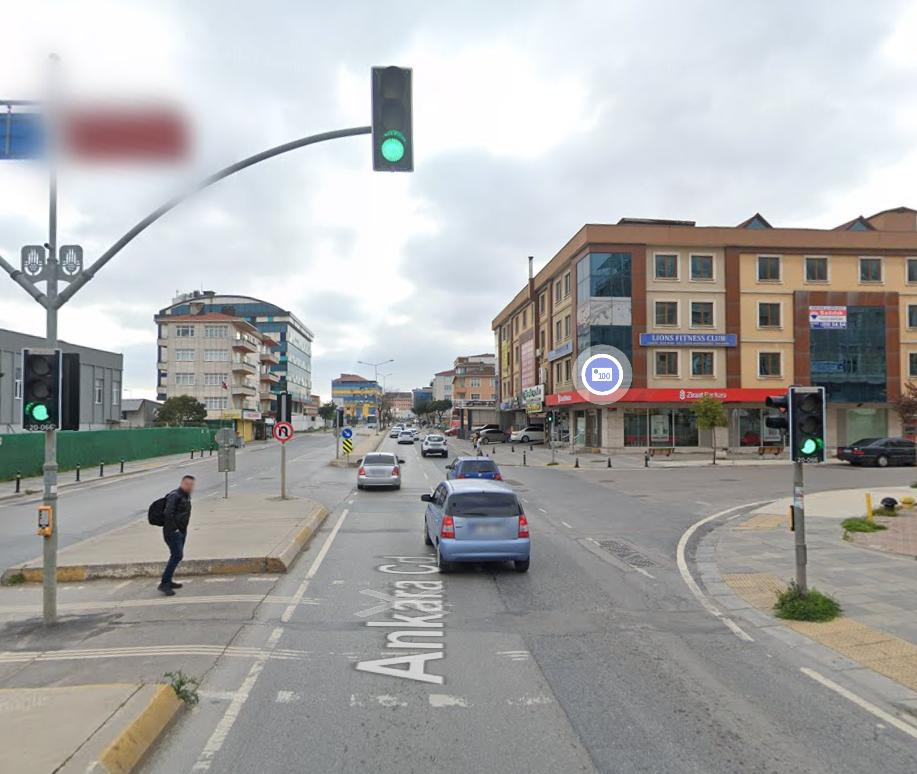greenlight: (372, 65, 414, 171), (24, 349, 56, 422), (790, 386, 823, 456)
